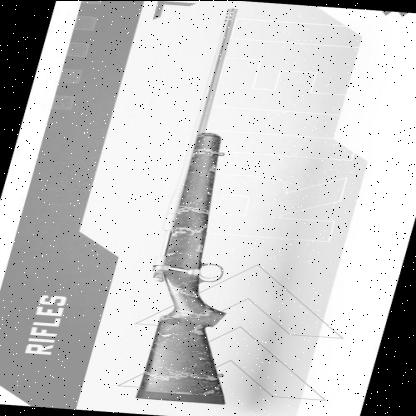rifle: (103, 0, 339, 407)
